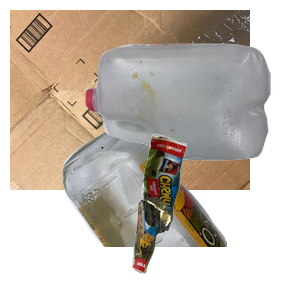cardboard: (10, 10, 250, 190)
glass: (60, 120, 300, 300)
plastic: (83, 41, 300, 194)
trash: (130, 131, 300, 300)
